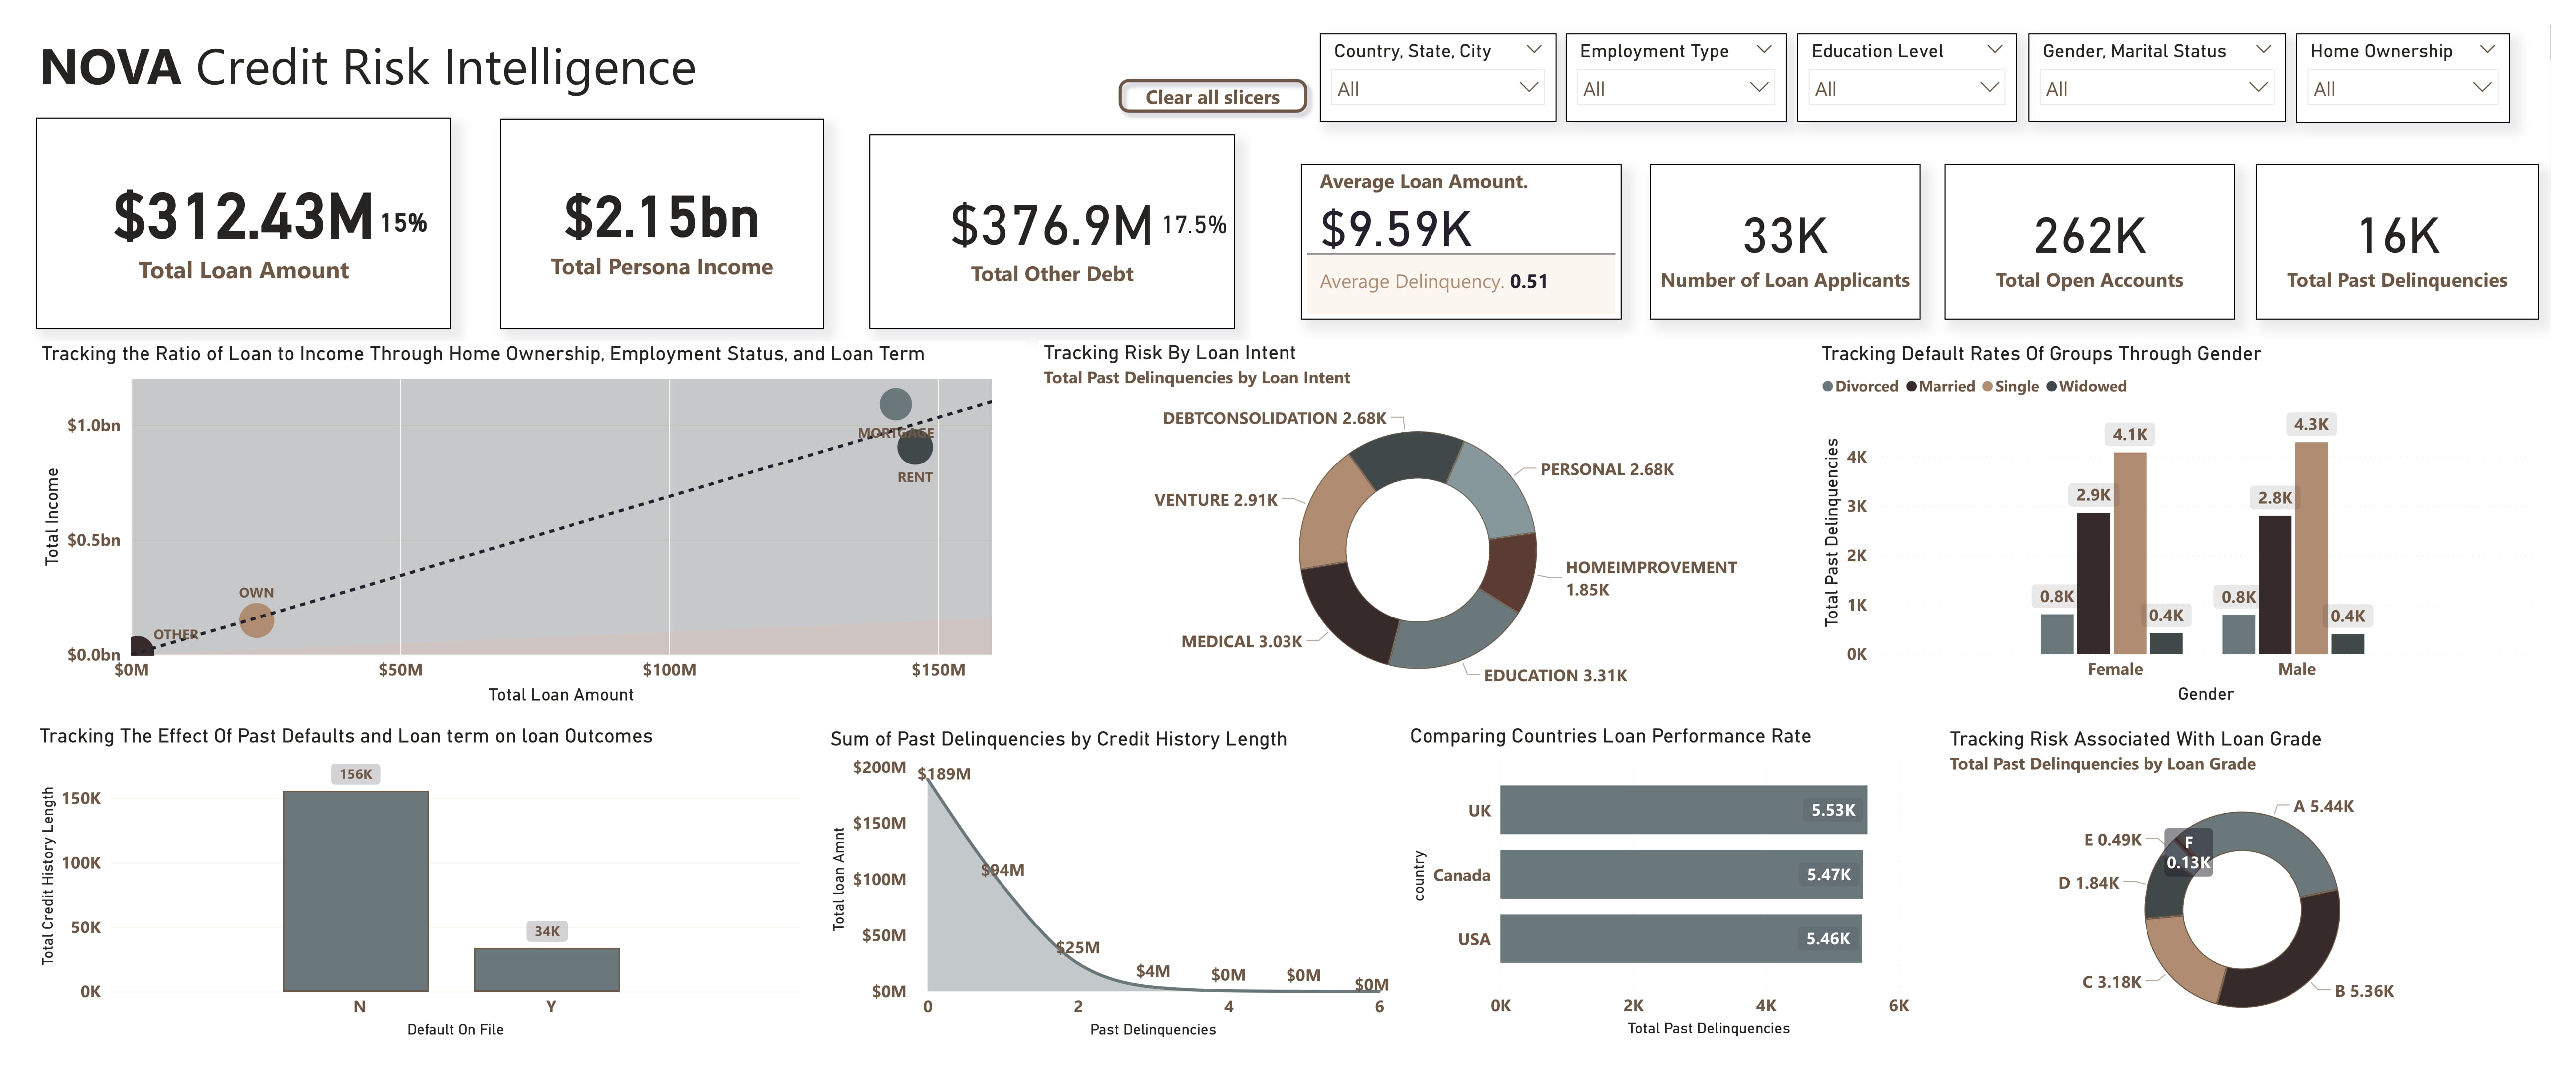

What the dashboard file says about the page in this screenshot:
{"tool":"powerbi","page":{"name":"Page 1","canvas":[2434,992],"ordinal":0},"visuals":[{"type":"textbox","box":[9.1,0,663.6,88.6],"z":0},{"type":"card","fields":{"Values":["Measures (2).Number of Loan Applicants"]},"box":[1565.9,134.1,261.4,150],"z":1000},{"type":"card","fields":{"Values":["Measures (2).Total Loan Amount"]},"box":[11.4,88.6,400,204.5],"z":2000},{"type":"card","fields":{"Values":["Measures (2).Total Open Accounts"]},"box":[1850,134.1,279.5,150],"z":3000},{"type":"card","fields":{"Values":["Measures (2).Total Other Debt"]},"box":[814.1,105.5,352.2,187.7],"z":4000},{"type":"card","fields":{"Values":["Measures (2).Total Persona Income"]},"box":[457.5,90,312.5,202.5],"z":5000},{"type":"card","fields":{"Values":["Measures (2).Total Past Delinquencies"]},"box":[2150,134.1,272.7,150],"z":6000},{"type":"card","fields":{"Values":["Measures (2).loan to Income Ratio"]},"box":[318.2,152.3,93.2,75],"z":7000},{"type":"card","fields":{"Values":["Measures (2).Debt To Income Ratio"]},"box":[1088.3,158.2,78,65.4],"z":8000},{"type":"scatterChart","title":"Tracking The Correlation Between Loan and Income ","fields":{"Category":["Credit Risk Data.person_home_ownership","Credit Risk Data.employment_type","Credit Risk Data.loan_term_months"],"X":["Measures (2).Total Loan Amount"],"Y":["Sum(Credit Risk Data.person_income)"],"Size":["Measures (2).loan to Income Ratio"]},"box":[11.4,304.5,952.3,354.5],"z":9000},{"type":"slicer","fields":{"Values":["Credit Risk Data.country","Credit Risk Data.state","Credit Risk Data.city"]},"box":[1248,7.5,227.5,85],"z":10000},{"type":"clusteredColumnChart","title":"Tracking Credit History of Defaults on file ","fields":{"Category":["Credit Risk Data.cb_person_default_on_file","Credit Risk Data.past_delinquencies"],"Y":["Sum(Credit Risk Data.cb_person_cred_hist_length)"]},"box":[9.1,672.7,743.2,306.8],"z":11000},{"type":"clusteredColumnChart","title":"Tracking Default Rates Of Groups Through Gender","fields":{"Category":["Credit Risk Data.gender","Credit Risk Data.employment_type","Credit Risk Data.education_level","Credit Risk Data.loan_intent","Credit Risk Data.person_age"],"Series":["Credit Risk Data.marital_status"],"Y":["Measures (2).Total Past Delinquencies"]},"box":[1726.3,305.3,697.4,352.6],"z":12000},{"type":"lineChart","title":"Sum of Past Delinquencies by Credit History Length","fields":{"Y":["Sum(Credit Risk Data.loan_amnt)"],"Category":["Credit Risk Data.past_delinquencies"]},"box":[771.1,675.6,548.9,304.4],"z":13000},{"type":"donutChart","title":"Tracking Risk Associated With Loan Grade","fields":{"Category":["Credit Risk Data.loan_grade"],"Y":["Measures (2).Total Past Delinquencies"]},"box":[1850,676.3,573.7,302.6],"z":14000},{"type":"clusteredBarChart","title":"Comparing Countries Loan Performance Rate","fields":{"Category":["Credit Risk Data.country","Credit Risk Data.state","Credit Risk Data.city"],"Y":["Measures (2).Total Past Delinquencies"]},"box":[1330,672.8,509,305.8],"z":15000},{"type":"cardVisual","fields":{"Data":["Measures (2).Average Loan Amount."]},"box":[1229.5,134.1,309.1,150],"z":16000},{"type":"donutChart","title":"Tracking Risk By Loan Intent","fields":{"Category":["Credit Risk Data.loan_intent","Credit Risk Data.cb_person_default_on_file","Credit Risk Data.loan_status"],"Y":["Measures (2).Total Past Delinquencies"]},"box":[976.6,303.7,731.9,354.3],"z":17000},{"type":"slicer","fields":{"Values":["Credit Risk Data.gender","Credit Risk Data.marital_status"]},"box":[1931,7.5,247.5,85],"z":18000},{"type":"slicer","fields":{"Values":["Credit Risk Data.employment_type"]},"box":[1485,7.5,212.5,85],"z":19000},{"type":"slicer","fields":{"Values":["Credit Risk Data.education_level"]},"box":[1707.5,7.5,212.5,85],"z":20000},{"type":"slicer","fields":{"Values":["Credit Risk Data.person_home_ownership"]},"box":[2188.9,7.9,206.3,85.7],"z":21000},{"type":"actionButton","box":[1051,24,192,48],"z":23000},{"type":"actionButton","box":[460,306,96,20],"z":24000},{"type":"actionButton","box":[1228,306,96,20],"z":25000},{"type":"actionButton","box":[2161,304,95,20],"z":26000},{"type":"actionButton","box":[370,673,95,20],"z":27000},{"type":"actionButton","box":[1728,674,96,24],"z":28000},{"type":"actionButton","box":[1218,677,95,20],"z":28001},{"type":"actionButton","box":[2216,678,95,20],"z":28002}]}

Visuals, with their boxes in screenshot pixels (x1, y1, x2, y2):
textbox: BBox(34, 25, 723, 117)
card - Measures (2).Number of Loan Applicants: BBox(1650, 164, 1921, 320)
card - Measures (2).Total Loan Amount: BBox(37, 117, 452, 329)
card - Measures (2).Total Open Accounts: BBox(1945, 164, 2235, 320)
card - Measures (2).Total Other Debt: BBox(870, 135, 1235, 329)
card - Measures (2).Total Persona Income: BBox(500, 119, 824, 328)
card - Measures (2).Total Past Delinquencies: BBox(2256, 164, 2539, 320)
card - Measures (2).loan to Income Ratio: BBox(355, 183, 452, 261)
card - Measures (2).Debt To Income Ratio: BBox(1154, 189, 1235, 257)
"Tracking The Correlation Between Loan and Income " scatterChart: BBox(37, 341, 1025, 709)
slicer - Credit Risk Data.country x Credit Risk Data.state: BBox(1320, 33, 1556, 121)
"Tracking Credit History of Defaults on file " clusteredColumnChart: BBox(34, 724, 806, 1042)
"Tracking Default Rates Of Groups Through Gender" clusteredColumnChart: BBox(1817, 342, 2541, 708)
"Sum of Past Delinquencies by Credit History Length" lineChart: BBox(825, 727, 1395, 1043)
"Tracking Risk Associated With Loan Grade" donutChart: BBox(1945, 727, 2541, 1042)
"Comparing Countries Loan Performance Rate" clusteredBarChart: BBox(1405, 724, 1934, 1041)
cardVisual - Measures (2).Average Loan Amount.: BBox(1301, 164, 1622, 320)
"Tracking Risk By Loan Intent" donutChart: BBox(1038, 340, 1798, 708)
slicer - Credit Risk Data.gender x Credit Risk Data.marital_status: BBox(2029, 33, 2286, 121)
slicer - Credit Risk Data.employment_type: BBox(1566, 33, 1787, 121)
slicer - Credit Risk Data.education_level: BBox(1797, 33, 2017, 121)
slicer - Credit Risk Data.person_home_ownership: BBox(2296, 33, 2511, 122)
actionButton: BBox(1116, 50, 1315, 100)
actionButton: BBox(502, 343, 602, 363)
actionButton: BBox(1299, 343, 1399, 363)
actionButton: BBox(2268, 340, 2366, 361)
actionButton: BBox(409, 724, 508, 745)
actionButton: BBox(1818, 725, 1918, 750)
actionButton: BBox(1289, 728, 1388, 749)
actionButton: BBox(2325, 729, 2424, 750)
